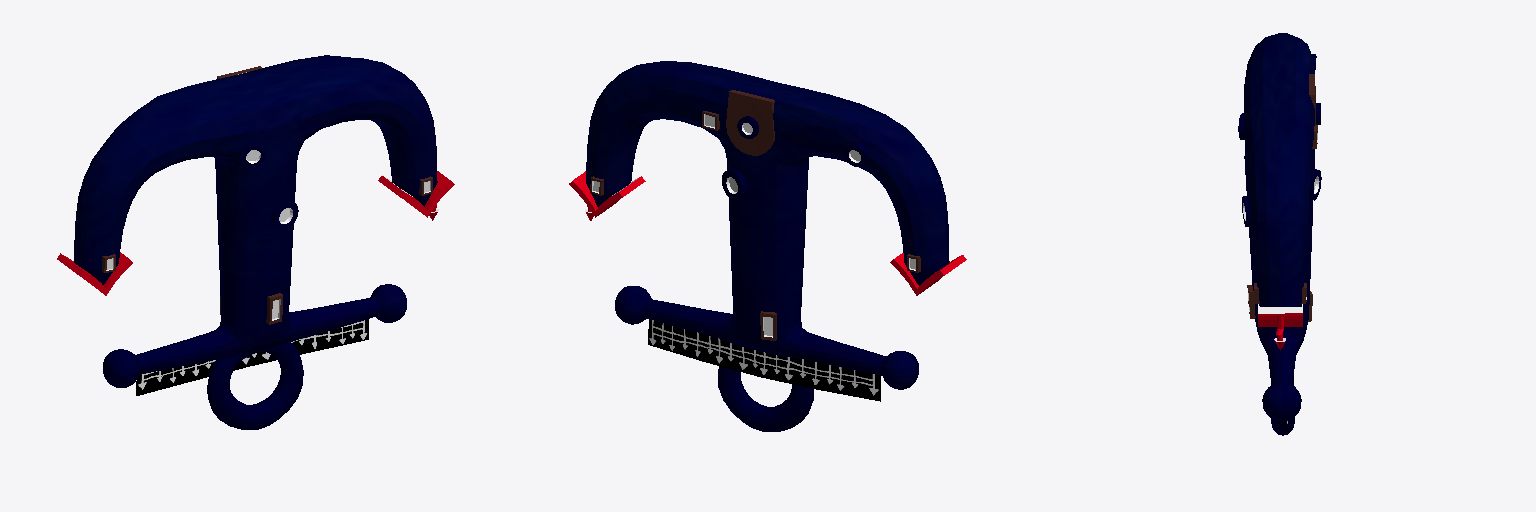
3 views of the same model, side by side, from view 1: azimuth 30°, elevation 25°; view 2: azimuth 150°, elevation 25°; view 3: azimuth 270°, elevation 25° (orthographic).
Parts seen in each view (by area): view 1: Object001, model_0, Object003, Object002, Object007; view 2: model_0, Object001, Object003, Object002, Object007; view 3: model_0, Object001, Object003, Object002, Object007.
Boxes of the visible parts, x1=… form: Object001: x1=76, y1=63, x2=437, y2=374; model_0: x1=74, y1=55, x2=438, y2=429; Object003: x1=103, y1=284, x2=406, y2=387; Object002: x1=57, y1=171, x2=454, y2=295; Object007: x1=239, y1=142, x2=298, y2=229; model_0: x1=585, y1=62, x2=946, y2=431; Object001: x1=629, y1=61, x2=949, y2=356; Object003: x1=615, y1=286, x2=918, y2=389; Object002: x1=569, y1=171, x2=966, y2=295; Object007: x1=722, y1=142, x2=867, y2=199; model_0: x1=1243, y1=33, x2=1319, y2=435; Object001: x1=1244, y1=33, x2=1281, y2=385; Object003: x1=1262, y1=382, x2=1301, y2=421; Object002: x1=1258, y1=313, x2=1302, y2=350; Object007: x1=1238, y1=54, x2=1321, y2=226.
Size of the model in its own units: 27.34 by 24.29 by 5.24.
Materials: 4 (4 with a texture image).